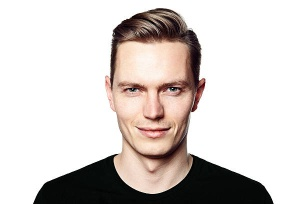male: (109, 25, 201, 157)
